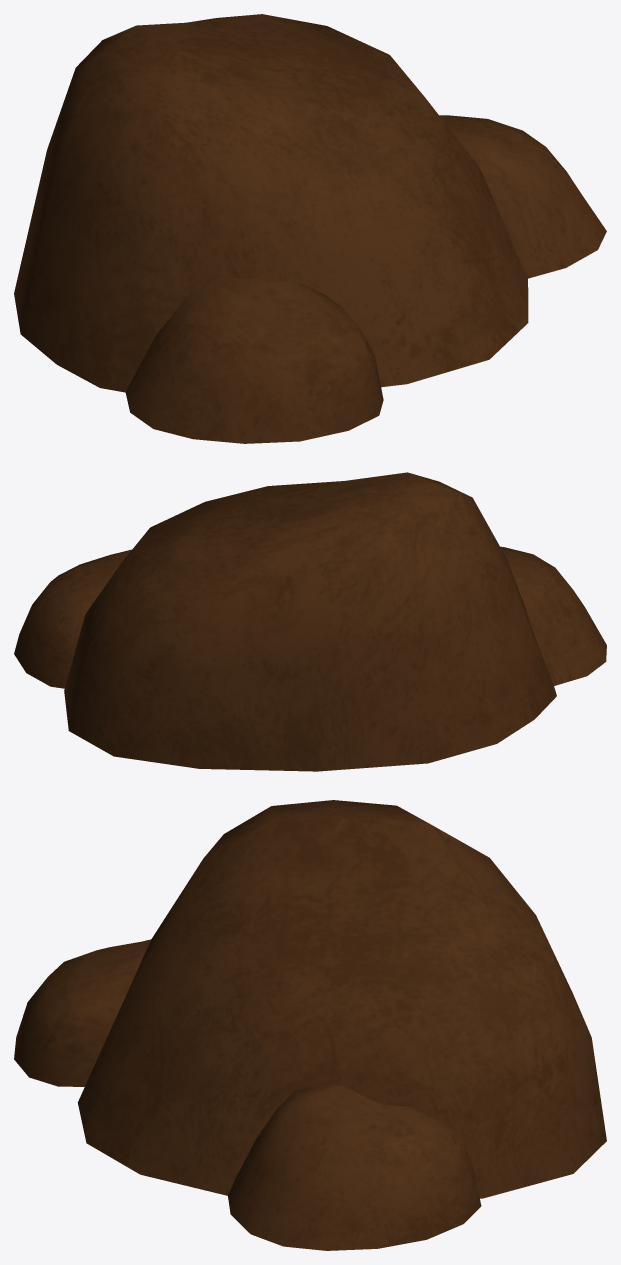
File: Desert_Rock_2.fbx
3 renders of one model, top to bottom at view 1: azimuth 30°, elevation 25°; view 2: azimuth 150°, elevation 25°; view 3: azimuth 270°, elevation 25°, orthographic. The views are drawn at different scales.
Parts seen in each view (by area): view 1: Desert_Rock_2; view 2: Desert_Rock_2; view 3: Desert_Rock_2.
Part boxes in pixels (bbox=[...]): Desert_Rock_2: bbox=[14, 14, 606, 443]; Desert_Rock_2: bbox=[14, 472, 606, 771]; Desert_Rock_2: bbox=[14, 800, 606, 1250].
Size of the model in its own units: 83.11 by 35.78 by 79.3.
Materials: 1 (1 with a texture image).
